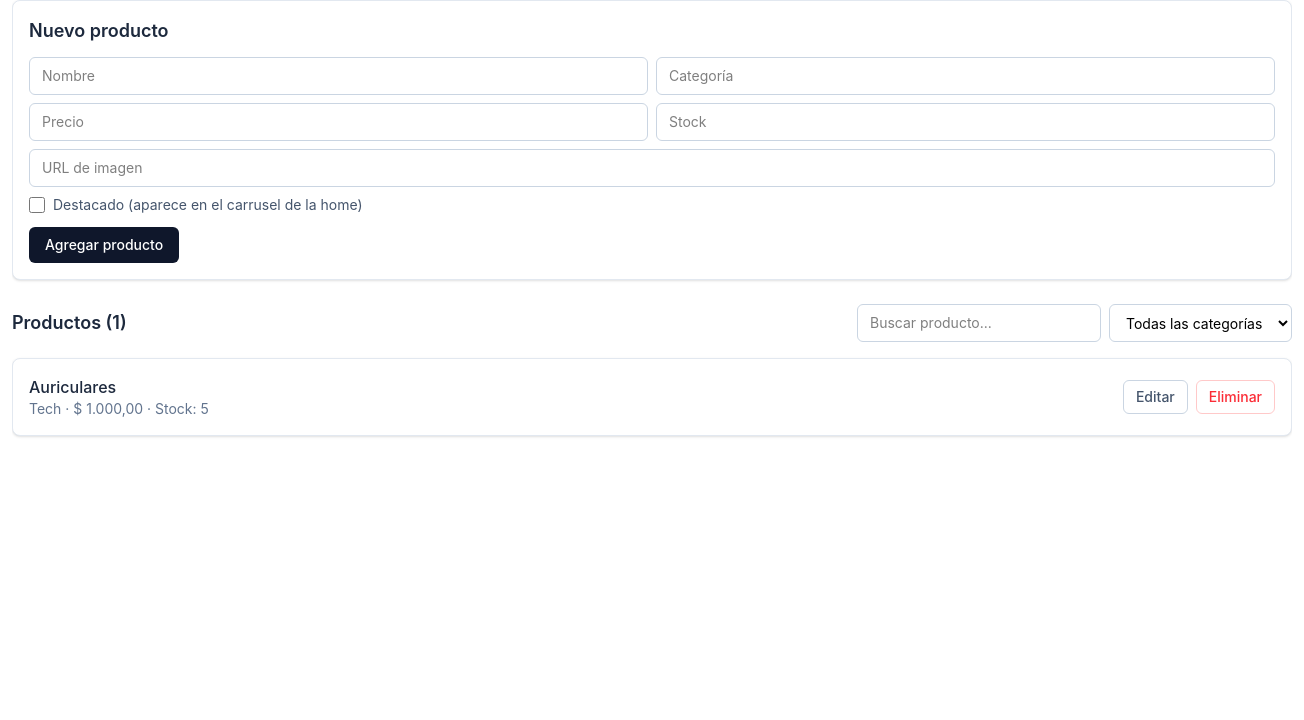
Test: AdminProducts › muestra un error si falla la edición
Click the button "Editar".
click(1155, 397)  # box [1123,380,1188,414]
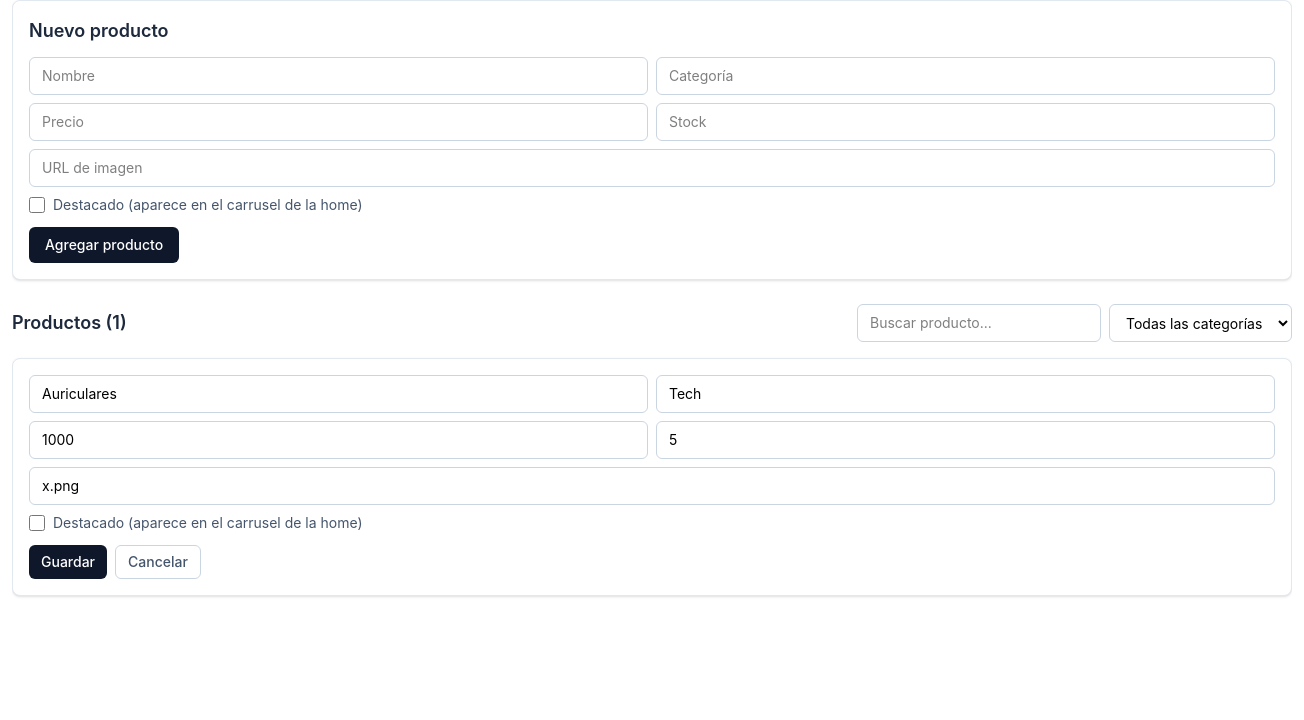
Click the button "Guardar".
click(68, 562)  # box [29,545,107,579]
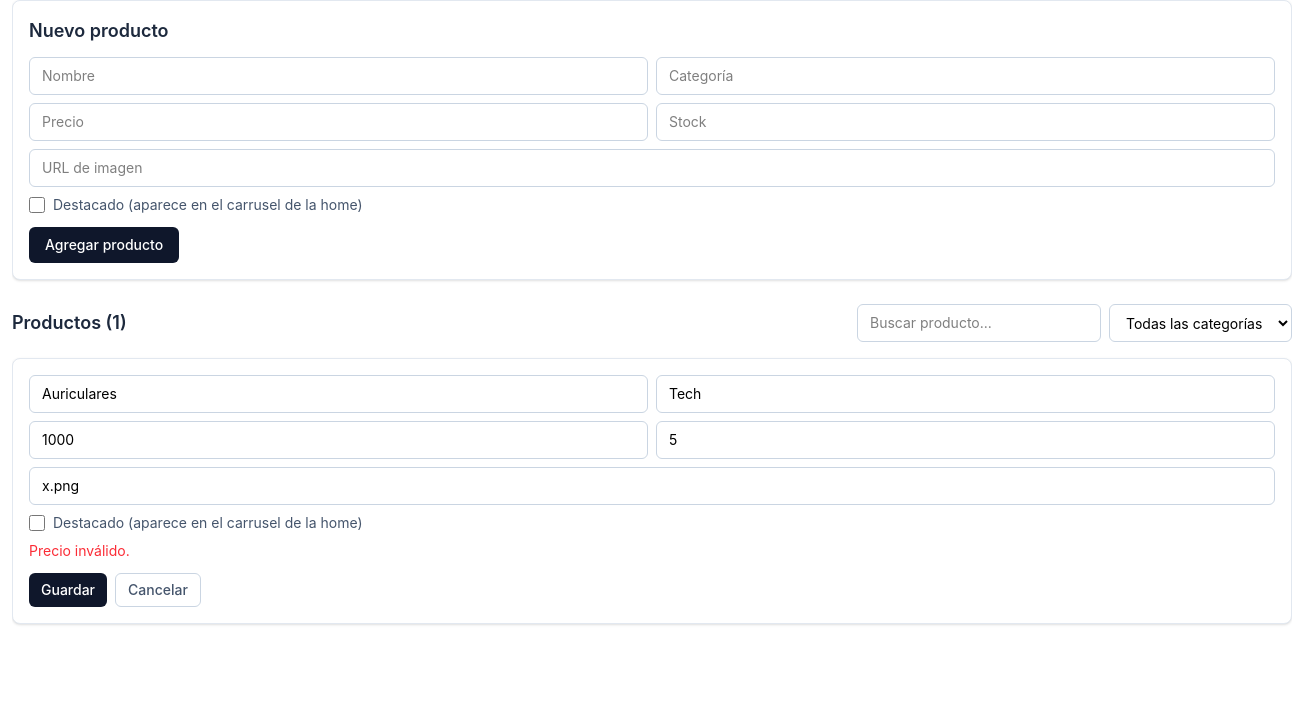
Now the text "Precio inválido." is shown, box [29,542,130,559]
